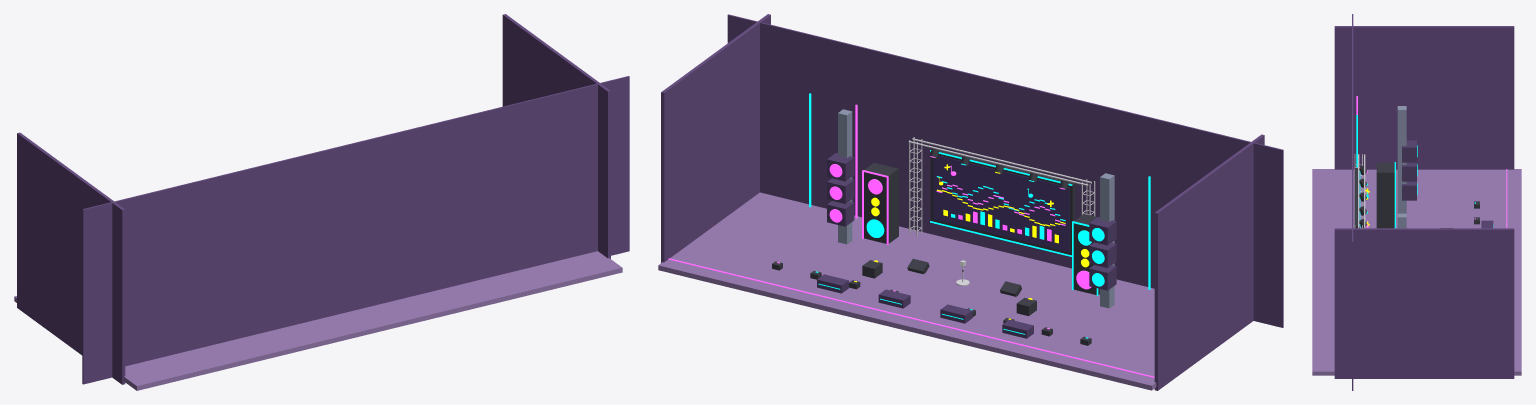
File: mimic_stage_deco.glb
3 renders of one model, left to right at view 1: azimuth 30°, elevation 25°; view 2: azimuth 150°, elevation 25°; view 3: azimuth 270°, elevation 25°, orthographic. The views are drawn at different scales.
Visible parts, largest first — view 1: Concert_Back_Wall, Stage_Side_Wall_L, Stage_Floor, Stage_Side_Wall_R; view 2: Concert_Back_Wall, Stage_Floor, Stage_Side_Wall_L, Stage_Side_Wall_R, Screen_Display, SpeakerTower_R, Screen_Frame, Stage_Front_Neon_Edge, Truss_SideTower_L, Truss_SideTower_R, SpeakerTower_L; view 3: Stage_Side_Wall_R, Stage_Side_Wall_L, Stage_Floor, SpeakerTower_L, Truss_SideTower_L, Concert_Back_Wall, Side_SpeakerStack_L_2, Side_SpeakerStack_L_0, Side_SpeakerStack_L_1.
Part boxes in pixels (x1,y1,x2,y2): Concert_Back_Wall: (82,76,629,384); Stage_Side_Wall_L: (17,132,125,384); Stage_Floor: (14,251,622,390); Stage_Side_Wall_R: (502,14,610,258); Concert_Back_Wall: (727,14,1283,327); Stage_Floor: (658,192,1156,390); Stage_Side_Wall_L: (1154,134,1264,390); Stage_Side_Wall_R: (661,14,770,262); Screen_Display: (933,155,1069,251); SpeakerTower_R: (864,162,898,243); Screen_Frame: (930,148,1075,255); Stage_Front_Neon_Edge: (668,258,1154,377); Truss_SideTower_L: (1100,173,1114,308); Truss_SideTower_R: (838,109,852,244); SpeakerTower_L: (1073,214,1099,294); Stage_Side_Wall_R: (1334,228,1514,378); Stage_Side_Wall_L: (1334,26,1514,169); Stage_Floor: (1312,169,1521,375); SpeakerTower_L: (1376,162,1394,228); Truss_SideTower_L: (1397,106,1406,213); Concert_Back_Wall: (1352,14,1353,390); Side_SpeakerStack_L_2: (1402,140,1416,162); Side_SpeakerStack_L_0: (1402,181,1416,200); Side_SpeakerStack_L_1: (1402,162,1416,181).
Bounding box in the file's own units: 36 × 11 × 14.
